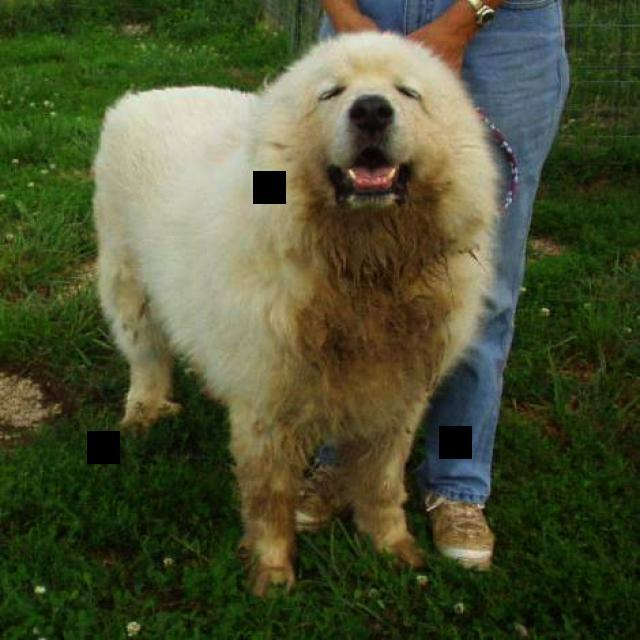adult_dog: (89, 29, 508, 600)
non-dog: (313, 0, 571, 571)
